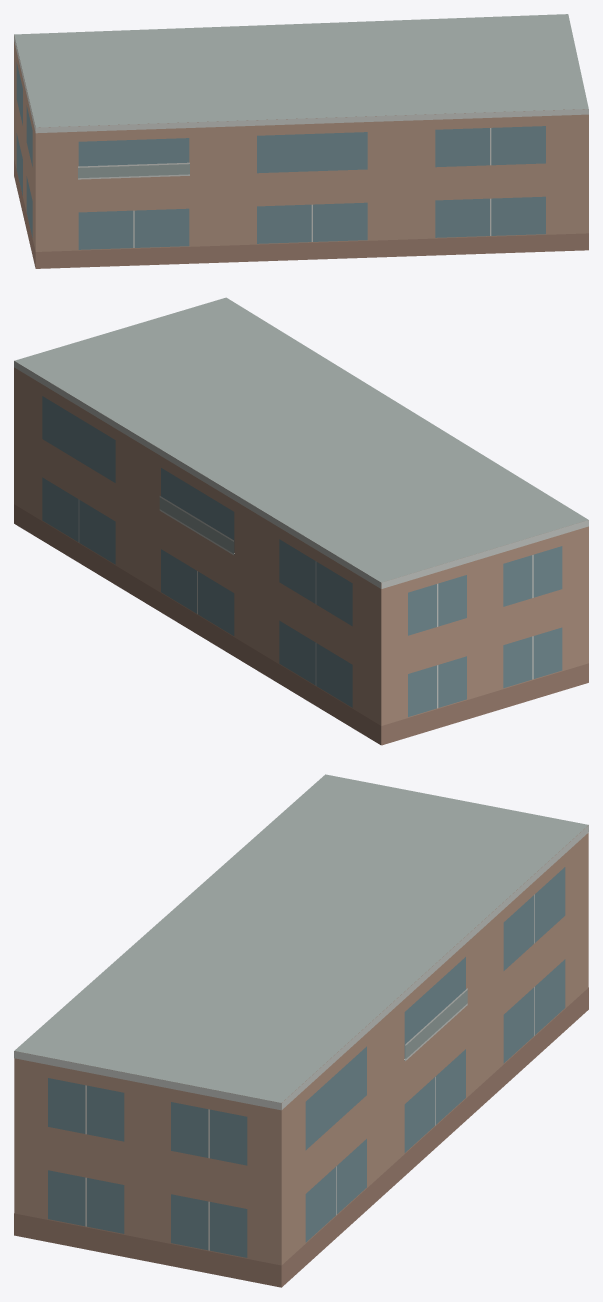
The model's file is survey-upis-32550845.glb.
3 renders of one model, top to bottom at view 1: azimuth 30°, elevation 25°; view 2: azimuth 150°, elevation 25°; view 3: azimuth 270°, elevation 25°, orthographic. The views are drawn at different scales.
Parts seen in each view (by area): view 1: survey-upis-32550845.tmp; view 2: survey-upis-32550845.tmp; view 3: survey-upis-32550845.tmp.
Boxes of the visible parts, x1,y1,x2,y2 form: survey-upis-32550845.tmp: (14, 14, 588, 268); survey-upis-32550845.tmp: (14, 297, 588, 745); survey-upis-32550845.tmp: (14, 774, 588, 1287).
Bounding box in the file's own units: 23.3 × 6.1 × 17.22.
